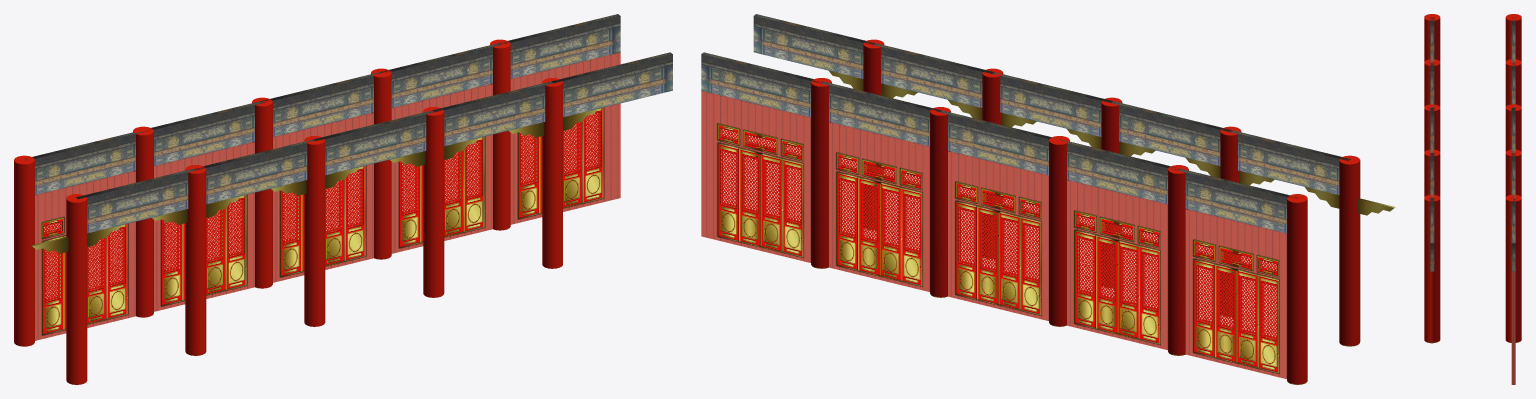
Rendered from colwallwallwallwallwall.dae.
The picture shows the model from 3 angles, left to right: view 1: azimuth 30°, elevation 25°; view 2: azimuth 150°, elevation 25°; view 3: azimuth 270°, elevation 25°; orthographic projection. The views are drawn at different scales.
Parts seen in each view (by area): view 1: MainNode; view 2: MainNode; view 3: MainNode.
Boxes of the visible parts, x1=… form: MainNode: x1=14, y1=14, x2=672, y2=384; MainNode: x1=701, y1=14, x2=1395, y2=384; MainNode: x1=1424, y1=14, x2=1521, y2=384.
Size of the model in its own units: 17.65 by 4.8 by 2.99.
Materials: 1 (1 with a texture image).
